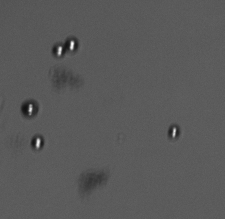Living Cell: (20, 97, 39, 118), (63, 35, 79, 54), (50, 41, 66, 59), (167, 122, 182, 141), (30, 133, 45, 151)
